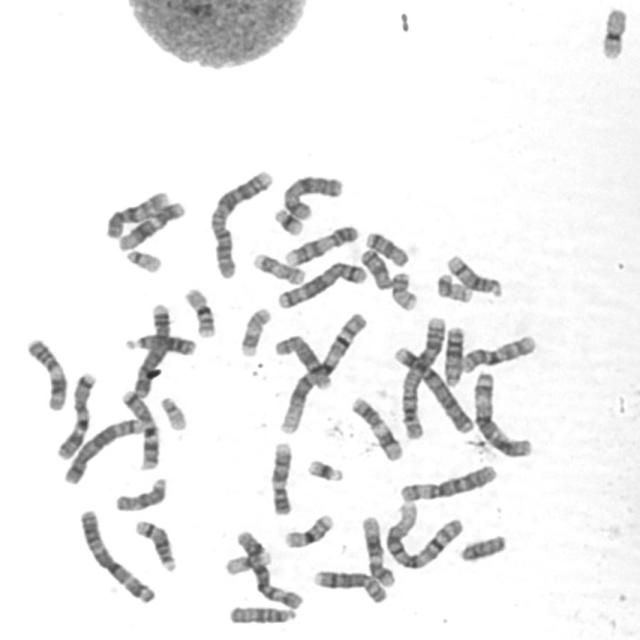A1: (276, 307, 369, 436), (380, 497, 465, 572)
A2: (204, 164, 274, 281), (395, 312, 448, 441)
A3: (73, 504, 157, 605), (468, 366, 535, 459)
B4: (388, 340, 476, 436), (127, 299, 172, 399)
B5: (59, 413, 144, 486), (273, 256, 369, 310)
C10: (101, 185, 171, 240), (456, 329, 538, 375)
C11: (347, 392, 405, 463), (22, 333, 68, 412)
C12: (112, 197, 187, 252), (357, 511, 398, 589)
C6: (231, 524, 305, 612), (395, 459, 498, 504)
C7: (51, 368, 98, 461), (116, 384, 162, 472)
C8: (269, 330, 333, 392), (308, 564, 389, 605)
C9: (279, 220, 360, 268), (265, 437, 295, 517)
D13: (120, 329, 198, 357), (439, 321, 466, 387)
D14: (442, 250, 505, 298), (131, 515, 177, 573)
D15: (110, 473, 169, 514), (224, 601, 299, 626)
E16: (278, 508, 336, 550), (180, 283, 218, 339)
E17: (247, 247, 307, 286), (235, 303, 272, 358)
E18: (361, 226, 410, 268), (356, 244, 394, 290)
F19: (596, 2, 630, 61), (220, 545, 272, 577)
F20: (431, 268, 475, 304), (386, 266, 419, 312)
G21: (302, 454, 346, 484), (269, 204, 305, 236)
G22: (120, 244, 163, 274), (156, 392, 188, 432)
X: (278, 170, 345, 220)
Y: (454, 530, 508, 564)
